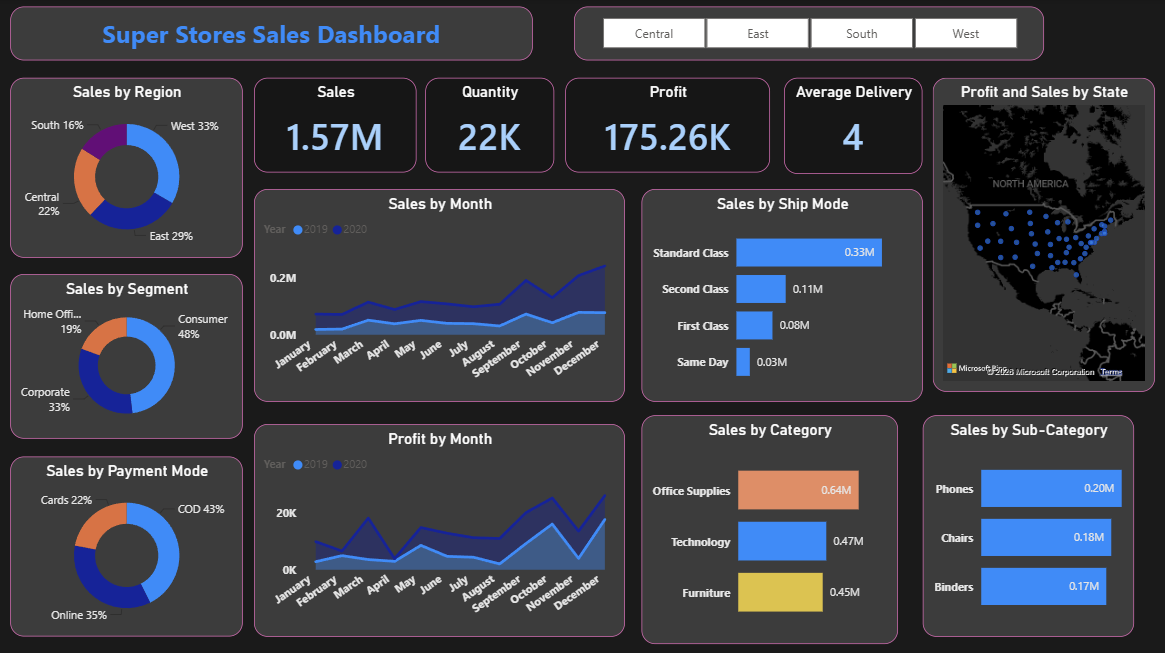

What the dashboard file says about the page in this screenshot:
{"tool":"powerbi","page":{"name":"Page 1","canvas":[1280,720],"ordinal":0},"visuals":[{"type":"clusteredBarChart","title":"Sales by Category","fields":{"Category":["SuperStore_Sales_Dataset.Category"],"Y":["Sum(SuperStore_Sales_Dataset.Sales)"]},"box":[705.3,456.9,281.3,251.1],"z":0},{"type":"clusteredBarChart","title":"Sales by Sub-Category","fields":{"Y":["Sum(SuperStore_Sales_Dataset.Sales)"],"Category":["SuperStore_Sales_Dataset.Sub-Category"]},"box":[1014.1,456.9,231.9,242.9],"z":1000},{"type":"clusteredBarChart","title":"Sales by Ship Mode","fields":{"Y":["Sum(SuperStore_Sales_Dataset.Sales)"],"Category":["SuperStore_Sales_Dataset.Ship Mode"]},"box":[705.3,208.6,308.7,233.3],"z":2000},{"type":"stackedAreaChart","title":"Sales by Month","fields":{"Y":["Sum(SuperStore_Sales_Dataset.Sales)"],"Category":["SuperStore_Sales_Dataset.Order Date.Variation.Date Hierarchy.Month"],"Series":["SuperStore_Sales_Dataset.Order Date.Variation.Date Hierarchy.Year"]},"box":[280,208.8,407.5,233.8],"z":3000},{"type":"map","title":"Profit and Sales by State","fields":{"Category":["SuperStore_Sales_Dataset.State"]},"box":[1025,86.4,244.3,344.4],"z":4000},{"type":"donutChart","title":"Sales by Segment","fields":{"Category":["SuperStore_Sales_Dataset.Segment"],"Y":["Sum(SuperStore_Sales_Dataset.Sales)"]},"box":[12.3,301.9,255.2,181.1],"z":5000},{"type":"donutChart","title":"Sales by Payment Mode","fields":{"Category":["SuperStore_Sales_Dataset.Payment Mode","SuperStore_Sales_Dataset.Segment"],"Y":["Sum(SuperStore_Sales_Dataset.Sales)"]},"box":[12.3,502.2,255.2,197.6],"z":6000},{"type":"stackedAreaChart","title":"Profit by Month","fields":{"Category":["SuperStore_Sales_Dataset.Order Date.Variation.Date Hierarchy.Month"],"Series":["SuperStore_Sales_Dataset.Order Date.Variation.Date Hierarchy.Year"],"Y":["Sum(SuperStore_Sales_Dataset.Profit)"]},"box":[280,466.2,407.5,233.8],"z":7000},{"type":"slicer","fields":{"Values":["SuperStore_Sales_Dataset.Region"]},"box":[631.2,8.2,516,59],"z":8000},{"type":"textbox","box":[12.3,8.2,573.6,59],"z":9000},{"type":"cardVisual","title":"Sales","fields":{"Data":["Sum(SuperStore_Sales_Dataset.Sales)"]},"box":[279.9,86.4,178.4,104.3],"z":10000},{"type":"cardVisual","title":"Quantity","fields":{"Data":["Sum(SuperStore_Sales_Dataset.Quantity)"]},"box":[467.9,86.4,141.3,104.3],"z":11000},{"type":"cardVisual","title":"Profit","fields":{"Data":["Sum(SuperStore_Sales_Dataset.Profit)"]},"box":[621.6,86.4,225,104.3],"z":12000},{"type":"cardVisual","title":"Average Delivery","fields":{"Data":["Avg(SuperStore_Sales_Dataset.Average Delivery)"]},"box":[861.8,86.4,152.3,105.7],"z":13000},{"type":"donutChart","title":"Sales by Region","fields":{"Y":["Sum(SuperStore_Sales_Dataset.Sales)"],"Category":["SuperStore_Sales_Dataset.Region"]},"box":[12.3,86.4,255.2,197.6],"z":13001}]}

Visuals, with their boxes in screenshot pixels (x1, y1, x2, y2), scaled from the page's 1280x720 canvas onto the 1165x653 screenshot:
"Sales by Category" clusteredBarChart: bbox=(642, 414, 898, 642)
"Sales by Sub-Category" clusteredBarChart: bbox=(923, 414, 1134, 635)
"Sales by Ship Mode" clusteredBarChart: bbox=(642, 189, 923, 401)
"Sales by Month" stackedAreaChart: bbox=(255, 189, 626, 401)
"Profit and Sales by State" map: bbox=(933, 78, 1155, 391)
"Sales by Segment" donutChart: bbox=(11, 274, 243, 438)
"Sales by Payment Mode" donutChart: bbox=(11, 455, 243, 635)
"Profit by Month" stackedAreaChart: bbox=(255, 423, 626, 635)
slicer - SuperStore_Sales_Dataset.Region: bbox=(574, 7, 1044, 61)
textbox: bbox=(11, 7, 533, 61)
"Sales" cardVisual: bbox=(255, 78, 417, 173)
"Quantity" cardVisual: bbox=(426, 78, 554, 173)
"Profit" cardVisual: bbox=(566, 78, 771, 173)
"Average Delivery" cardVisual: bbox=(784, 78, 923, 174)
"Sales by Region" donutChart: bbox=(11, 78, 243, 258)
